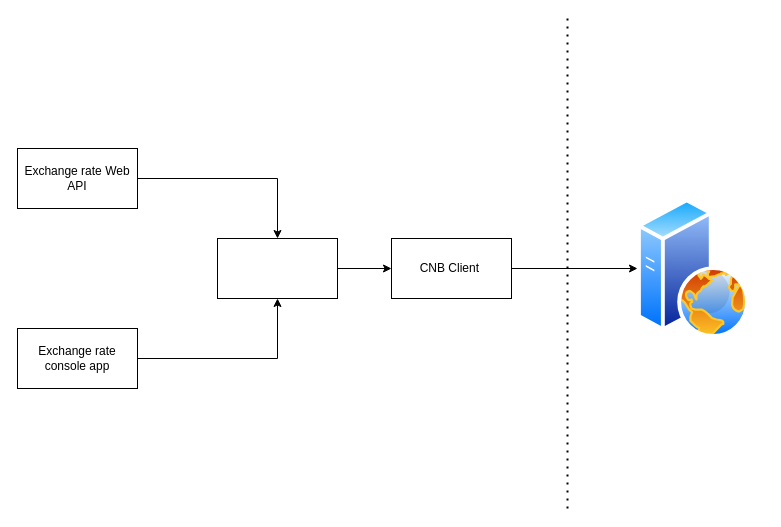
The diagram is 781 pixels wide and 527 high, and some of its shapes have lost their labels. The shapes that lost their labels are listed below. From the top down, each one's box as (x1, y1, x2, y2) in pixels, then its label:
(216, 238, 338, 298): Service
(637, 198, 749, 338): CNB XML and TXT source
